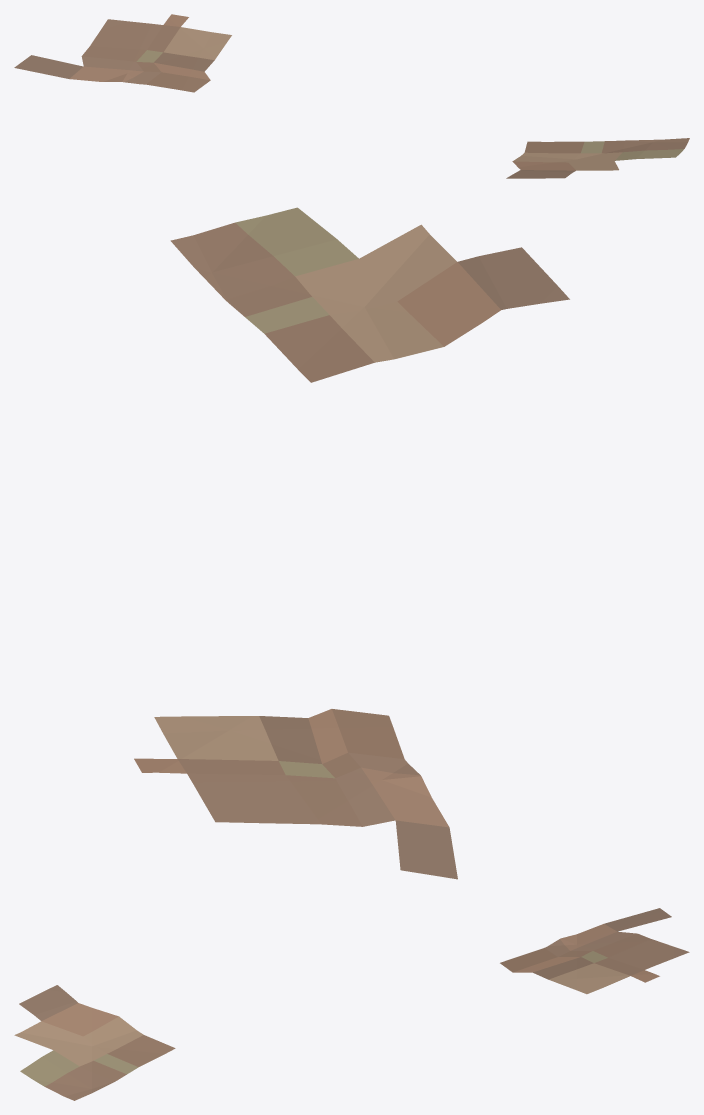
File: farm_-11_-19_soil.glb
3 renders of one model, top to bottom at view 1: azimuth 30°, elevation 25°; view 2: azimuth 150°, elevation 25°; view 3: azimuth 270°, elevation 25°, orthographic. The views are drawn at different scales.
Parts seen in each view (by area): view 1: geometry_0; view 2: geometry_0; view 3: geometry_0.
Part boxes in pixels (left/top/right/bottom): geometry_0: left=14, top=14, right=689, bottom=178; geometry_0: left=134, top=207, right=569, bottom=879; geometry_0: left=14, top=908, right=689, bottom=1100.
Bounding box in the file's own units: 430 × 39.49 × 558.
